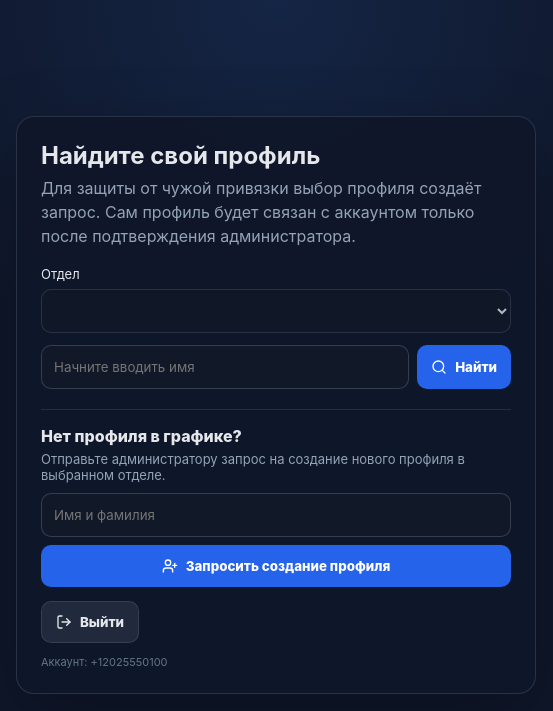
Test: Routing foundation with real session provider and ErrorBoundary › logs out from onboarding and routes to login
The width and height of the screenshot is (553, 711).
Click the button "Выйти" at (90,622), box [41,601,139,643]
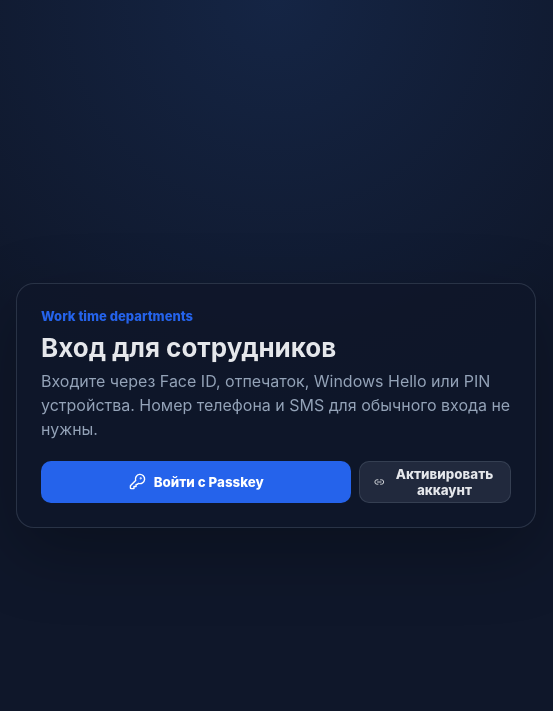
Now the heading "Вход для сотрудников" is shown, box [41,332,336,362]
